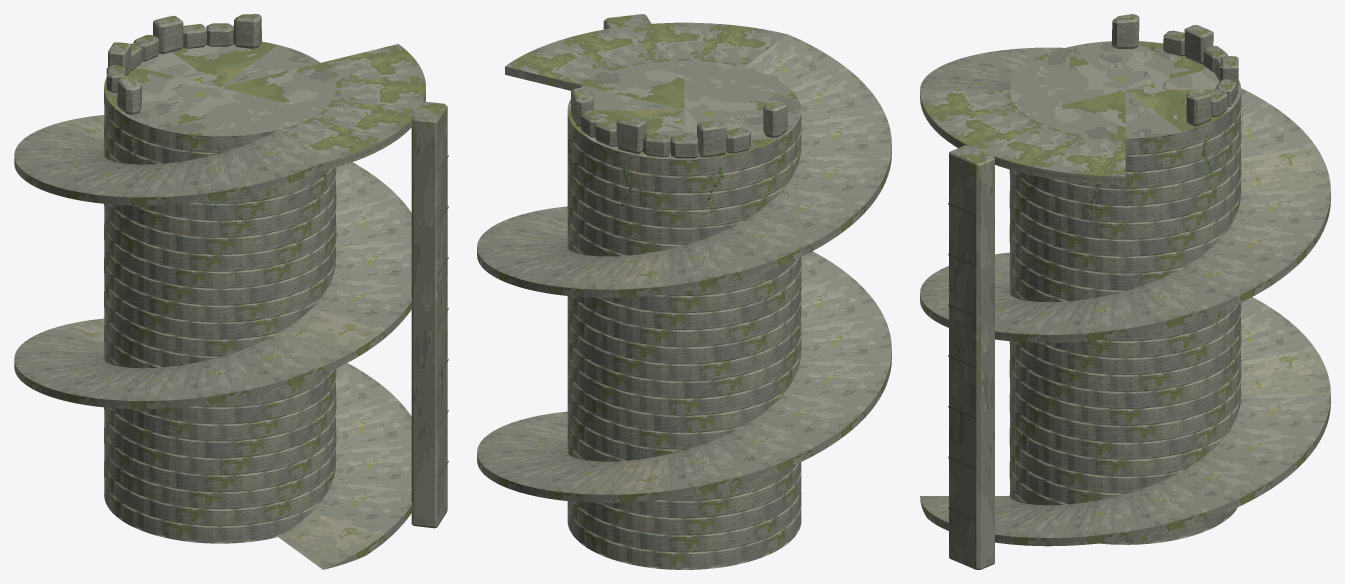
Rendered from ruin_tower_spiral.glb.
3 views of the same model, side by side, from view 1: azimuth 30°, elevation 25°; view 2: azimuth 150°, elevation 25°; view 3: azimuth 270°, elevation 25° (orthographic).
Parts seen in each view (by area): view 1: ruin_tower_spiral; view 2: ruin_tower_spiral; view 3: ruin_tower_spiral.
Boxes of the visible parts, x1=… form: ruin_tower_spiral: x1=14, y1=14, x2=448, y2=569; ruin_tower_spiral: x1=477, y1=14, x2=891, y2=569; ruin_tower_spiral: x1=920, y1=14, x2=1330, y2=569.
Bounding box in the file's own units: 11 × 12.85 × 11.
Materials: 2 (1 with a texture image).
